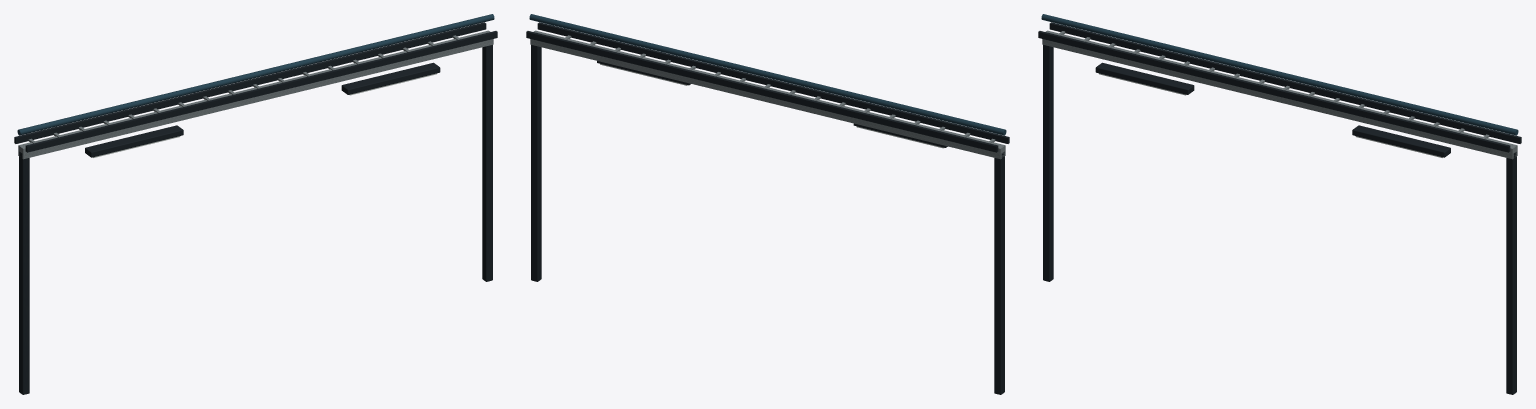
Rendered from utility-gantry.7b974a83a5a5.glb.
The picture shows the model from 3 angles, left to right: view 1: azimuth 30°, elevation 25°; view 2: azimuth 150°, elevation 25°; view 3: azimuth 330°, elevation 25°; orthographic projection.
Parts seen in each view (by area): view 1: crossbeam_0003, cable_tray_0005, cable_tray_0004, air_main_0024, upright_0001, upright_0002, luminaire_0027, luminaire_0025; view 2: crossbeam_0003, cable_tray_0004, cable_tray_0005, air_main_0024, upright_0001, upright_0002; view 3: crossbeam_0003, cable_tray_0005, cable_tray_0004, air_main_0024, upright_0002, upright_0001, luminaire_0025, luminaire_0027.
Boxes of the visible parts, x1,y1,x2,y2 form: crossbeam_0003: (18,30,493,159); cable_tray_0005: (25,31,497,152); cable_tray_0004: (14,22,486,143); air_main_0024: (17,14,494,135); upright_0001: (19,151,29,394); upright_0002: (482,45,492,281); luminaire_0027: (341,62,440,94); luminaire_0025: (85,125,183,157); crossbeam_0003: (530,30,1005,159); cable_tray_0004: (526,31,998,152); cable_tray_0005: (537,22,1009,143); air_main_0024: (529,14,1006,135); upright_0001: (994,151,1004,394); upright_0002: (531,45,541,281); crossbeam_0003: (1042,30,1517,159); cable_tray_0005: (1038,31,1510,152); cable_tray_0004: (1049,22,1521,143); air_main_0024: (1041,14,1518,135); upright_0002: (1506,152,1516,394); upright_0001: (1043,45,1053,281); luminaire_0025: (1095,62,1194,94); luminaire_0027: (1352,125,1450,157).
Size of the model in its own units: 6.65 by 3.55 by 0.4.
4 materials, 3 textured.
